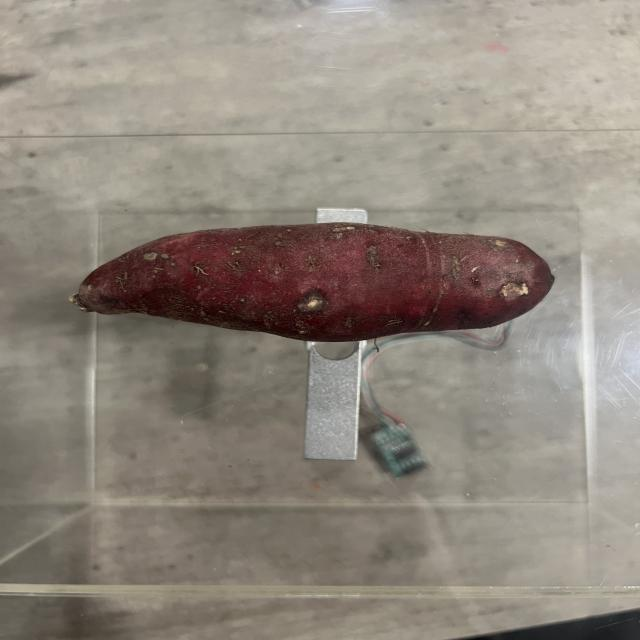sweet potato: (69, 223, 558, 338)
